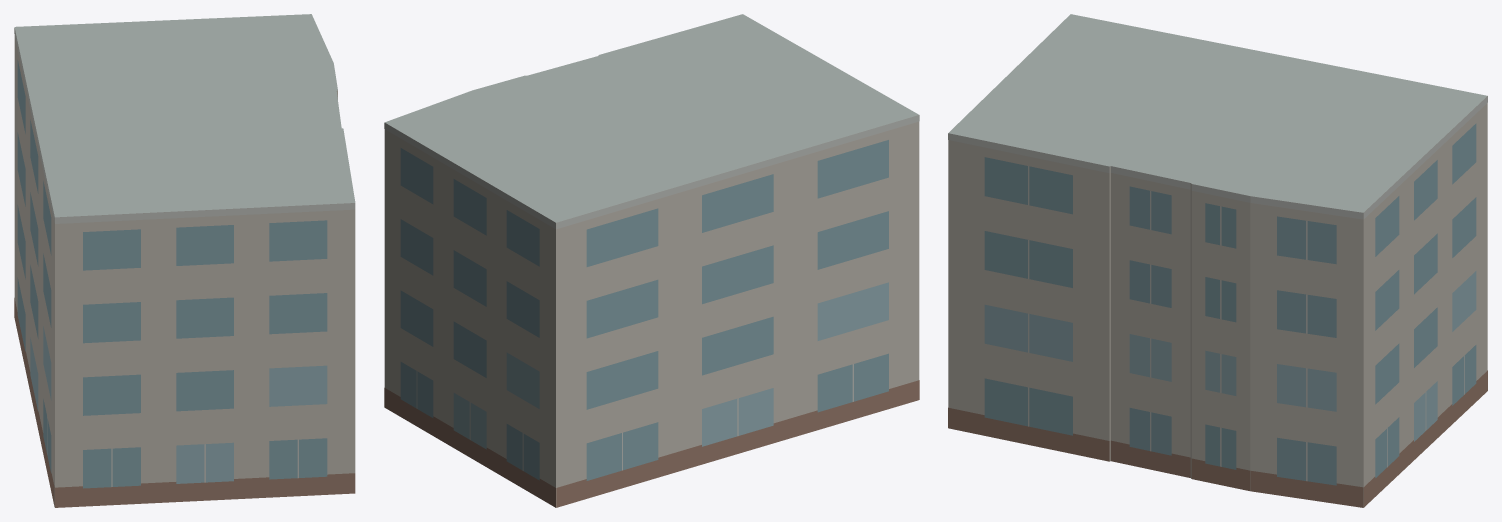
Rendered from survey-upis-32632187.glb.
3 renders of one model, left to right at view 1: azimuth 30°, elevation 25°; view 2: azimuth 150°, elevation 25°; view 3: azimuth 270°, elevation 25°, orthographic. The views are drawn at different scales.
Visible parts, largest first — view 1: survey-upis-32632187.tmp; view 2: survey-upis-32632187.tmp; view 3: survey-upis-32632187.tmp.
Boxes of the visible parts, x1,y1,x2,y2 form: survey-upis-32632187.tmp: [14, 14, 355, 507]; survey-upis-32632187.tmp: [384, 14, 919, 507]; survey-upis-32632187.tmp: [948, 14, 1487, 507].
Size of the model in its own units: 15.32 by 10.6 by 17.58.
